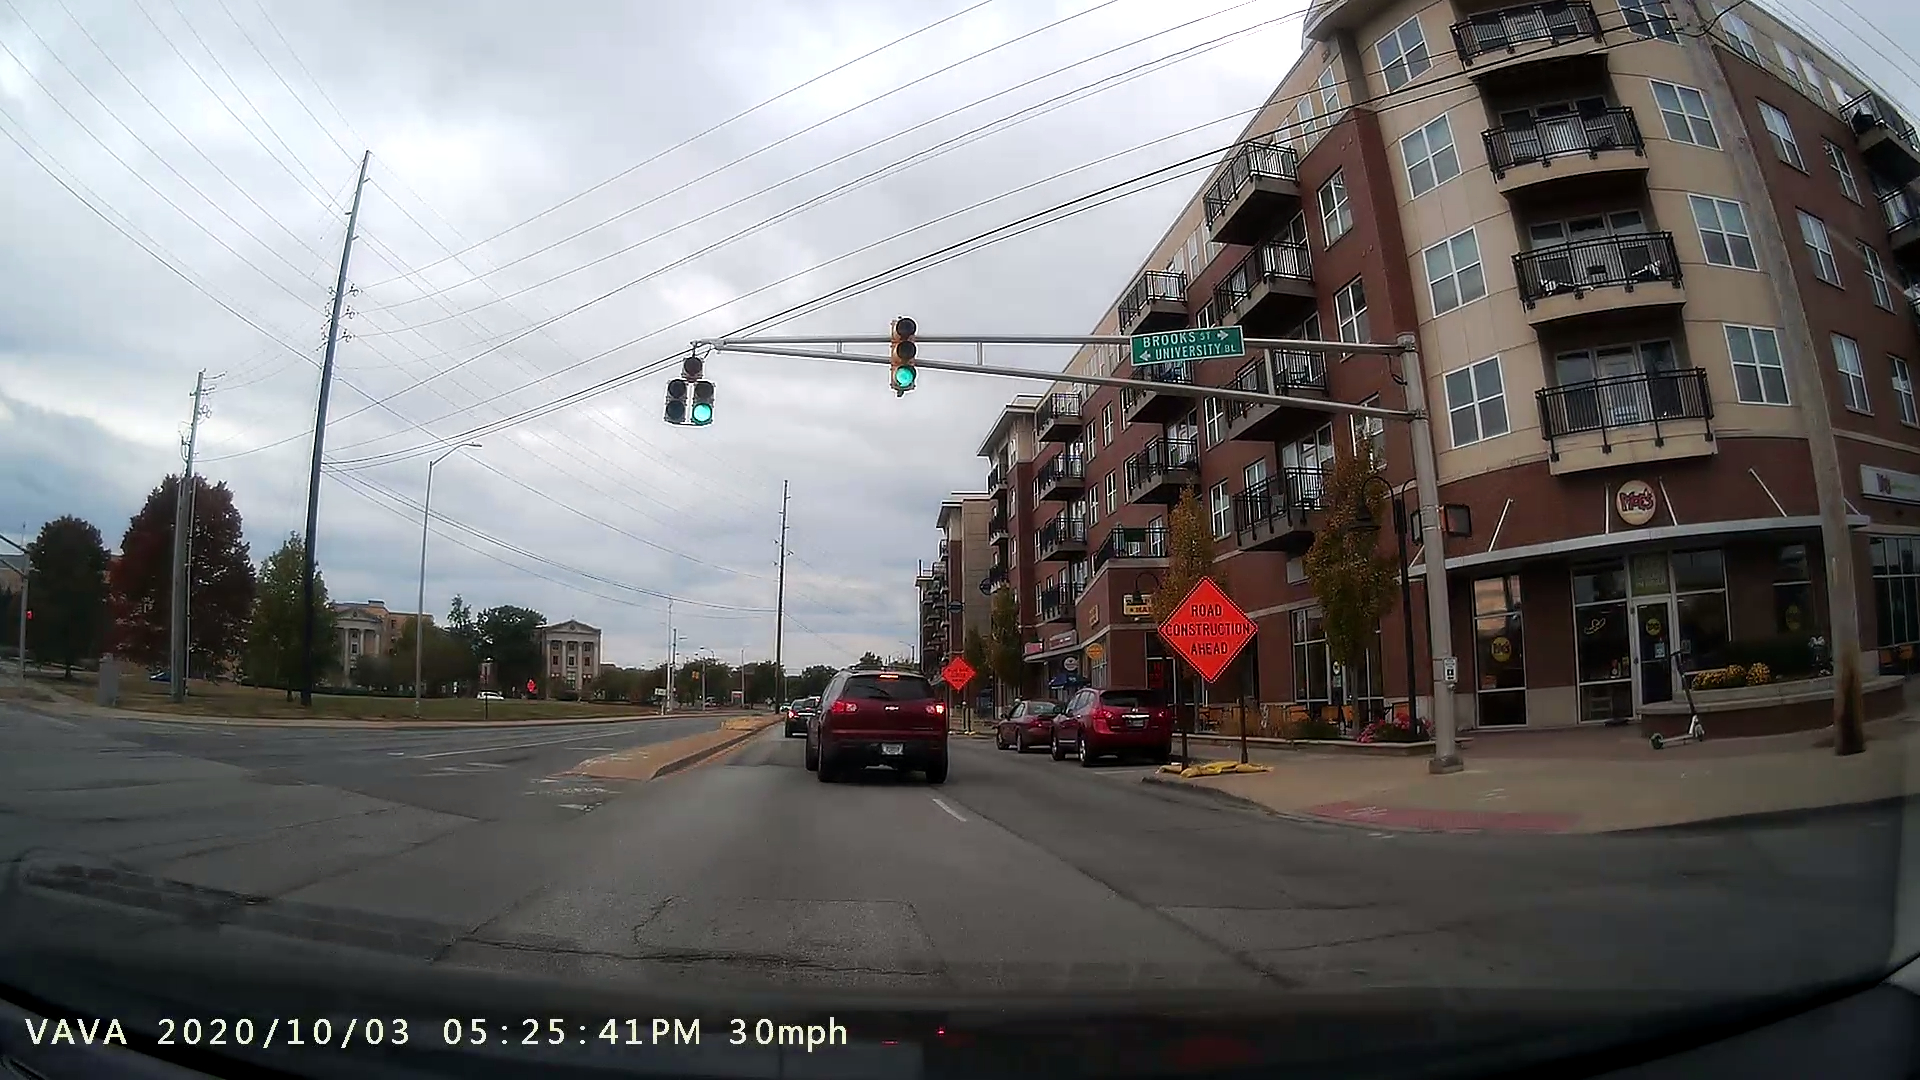ttcs_road_const_ahead: (1147, 562, 1283, 779)
